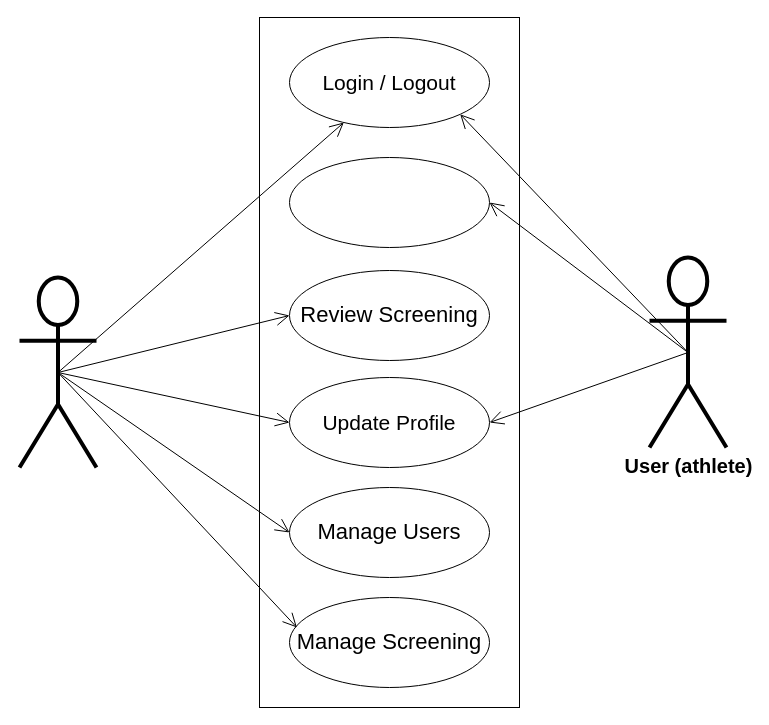
Image size: 769x725. Some labels were removed from this diagram. The box of each missing label's shape, as (x1, y1, x2, y2) in pixels:
Admin: (17, 275, 98, 469)
Apply Screening: (288, 156, 490, 248)
